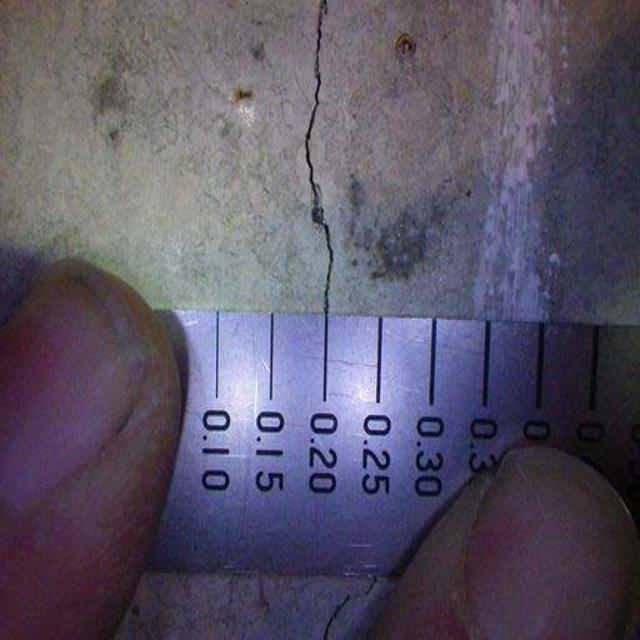crack: (290, 6, 359, 304)
